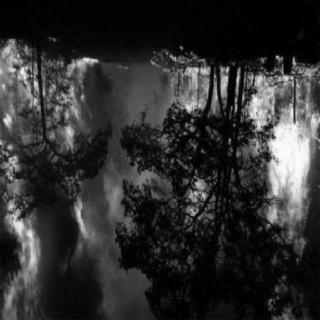Fire: (160, 64, 266, 114)
